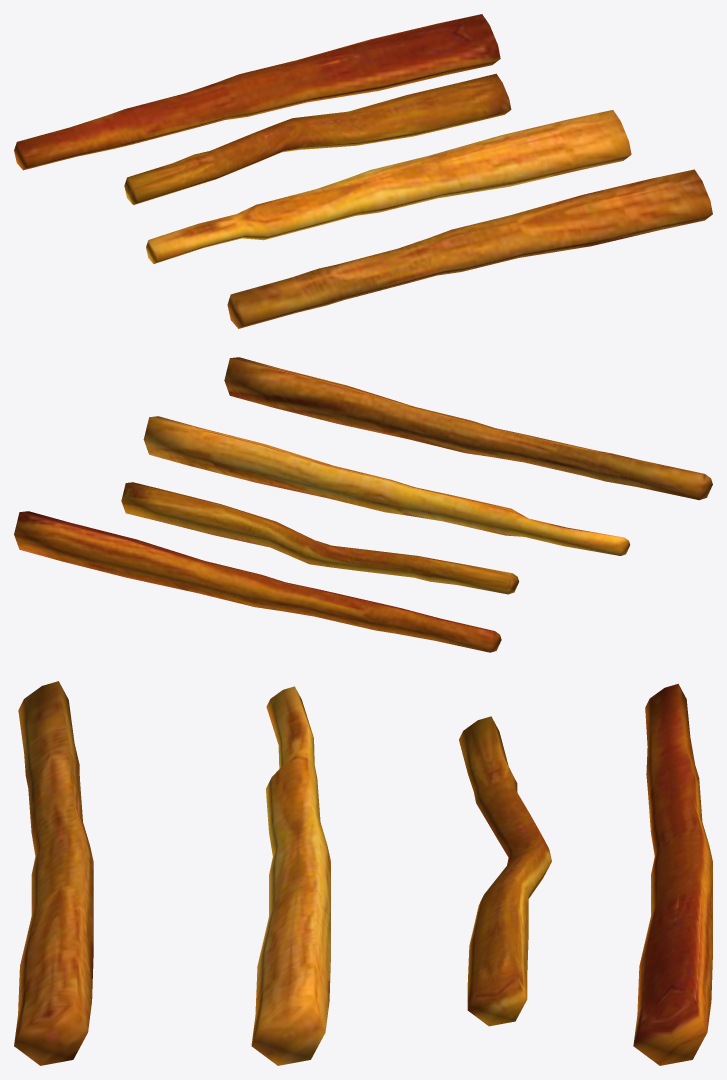
The model's file is sumu.FBX.
3 views of the same model, one above another, from view 1: azimuth 30°, elevation 25°; view 2: azimuth 150°, elevation 25°; view 3: azimuth 270°, elevation 25° (orthographic). The views are drawn at different scales.
Parts seen in each view (by area): view 1: Cylinder002, Cylinder004, Cylinder001, Cylinder003; view 2: Cylinder002, Cylinder004, Cylinder001, Cylinder003; view 3: Cylinder002, Cylinder004, Cylinder001, Cylinder003.
Boxes of the visible parts, x1=… form: Cylinder002: x1=227, y1=169, x2=712, y2=328; Cylinder004: x1=14, y1=14, x2=500, y2=170; Cylinder001: x1=146, y1=110, x2=631, y2=263; Cylinder003: x1=124, y1=73, x2=511, y2=204; Cylinder002: x1=224, y1=357, x2=712, y2=500; Cylinder004: x1=14, y1=511, x2=501, y2=652; Cylinder001: x1=143, y1=416, x2=629, y2=555; Cylinder003: x1=121, y1=482, x2=519, y2=594; Cylinder002: x1=14, y1=681, x2=93, y2=1065; Cylinder004: x1=633, y1=683, x2=712, y2=1065; Cylinder001: x1=251, y1=686, x2=330, y2=1065; Cylinder003: x1=459, y1=716, x2=551, y2=1026.
Size of the model in its own units: 0.4867 by 0.0421 by 0.429.
Materials: 1 (1 with a texture image).
